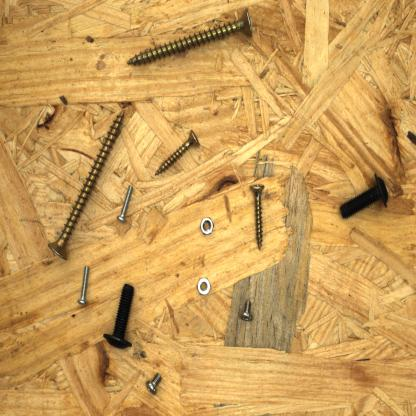screw: (44, 105, 127, 264), (123, 5, 255, 70), (336, 170, 392, 221), (101, 278, 138, 353), (152, 128, 202, 179), (248, 177, 268, 253), (74, 261, 94, 309), (116, 182, 134, 227), (143, 368, 166, 398), (237, 296, 255, 325)
